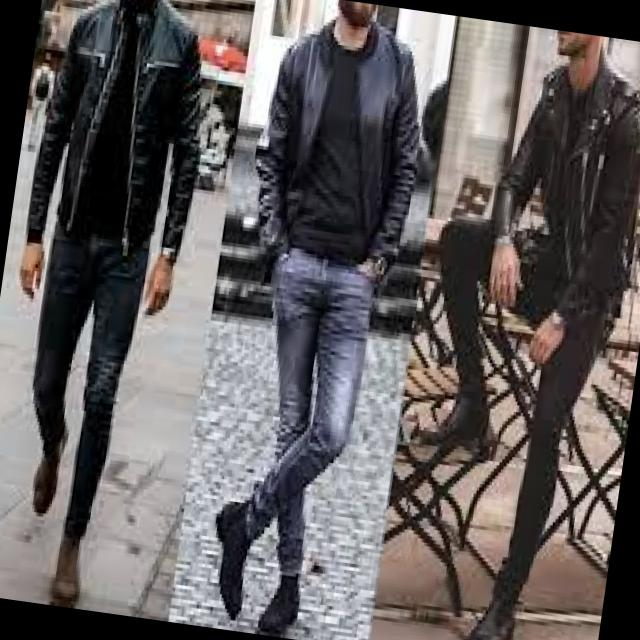Jacket: (20, 0, 219, 282), (239, 18, 442, 294), (480, 56, 640, 355)
